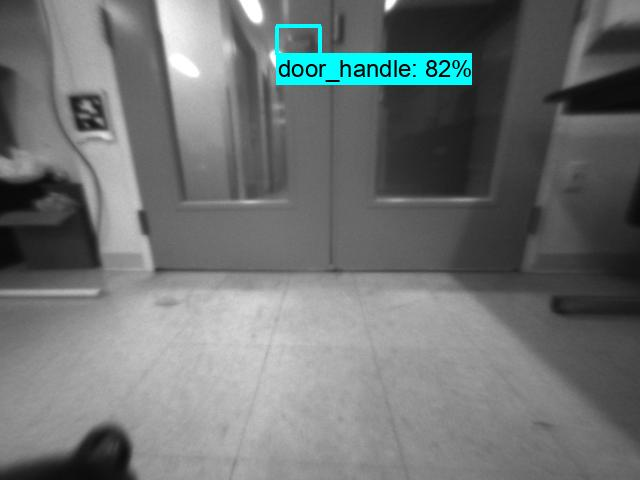door_handle: (273, 27, 321, 56)
